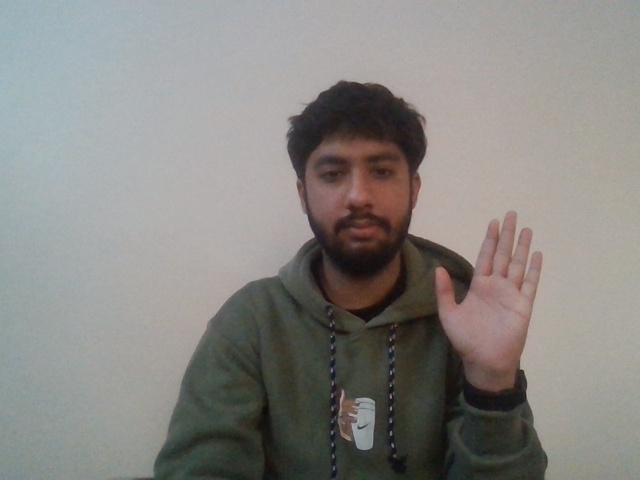Hello: (423, 209, 549, 374)
